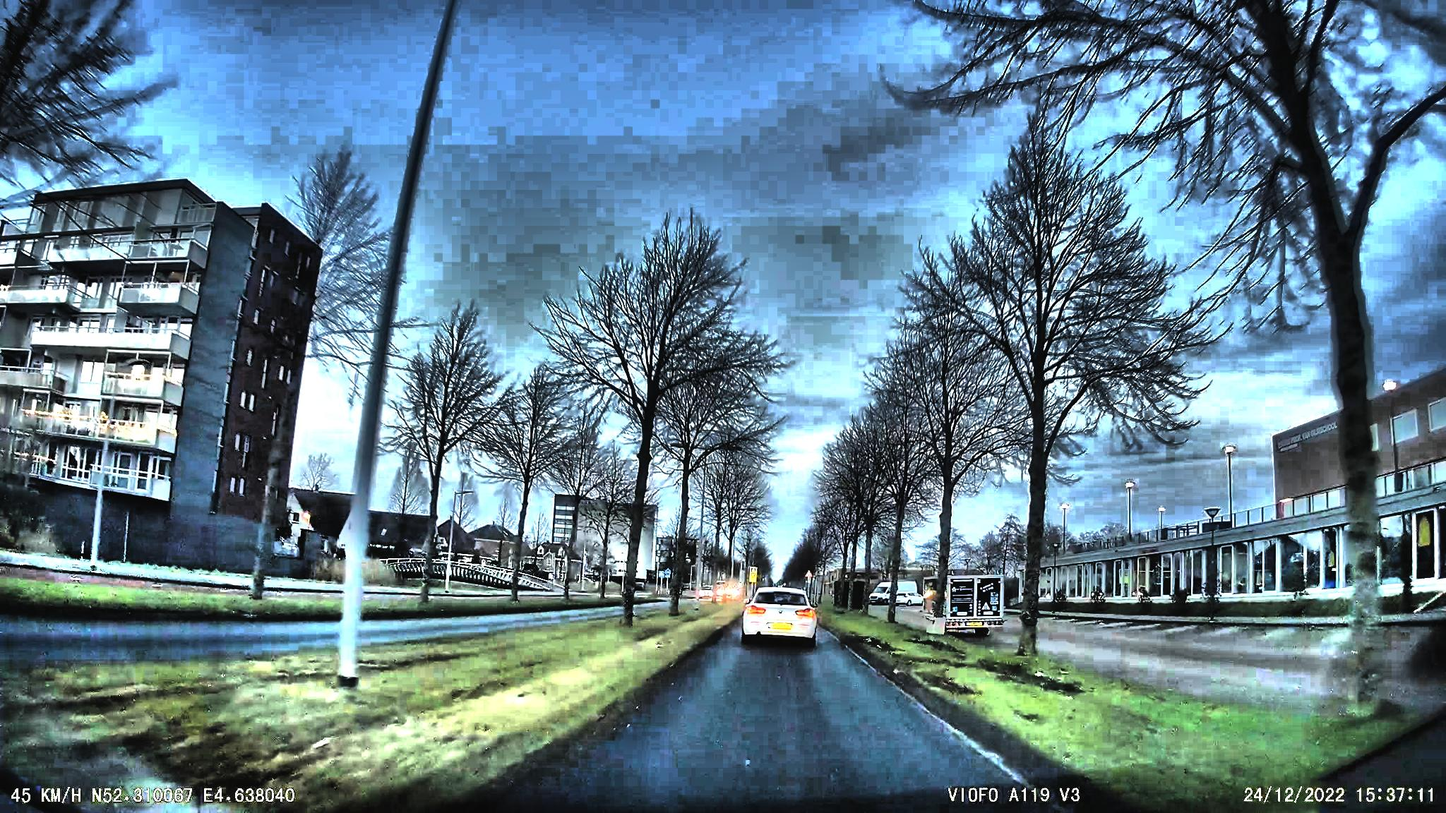Roads: (491, 630, 1140, 813)
